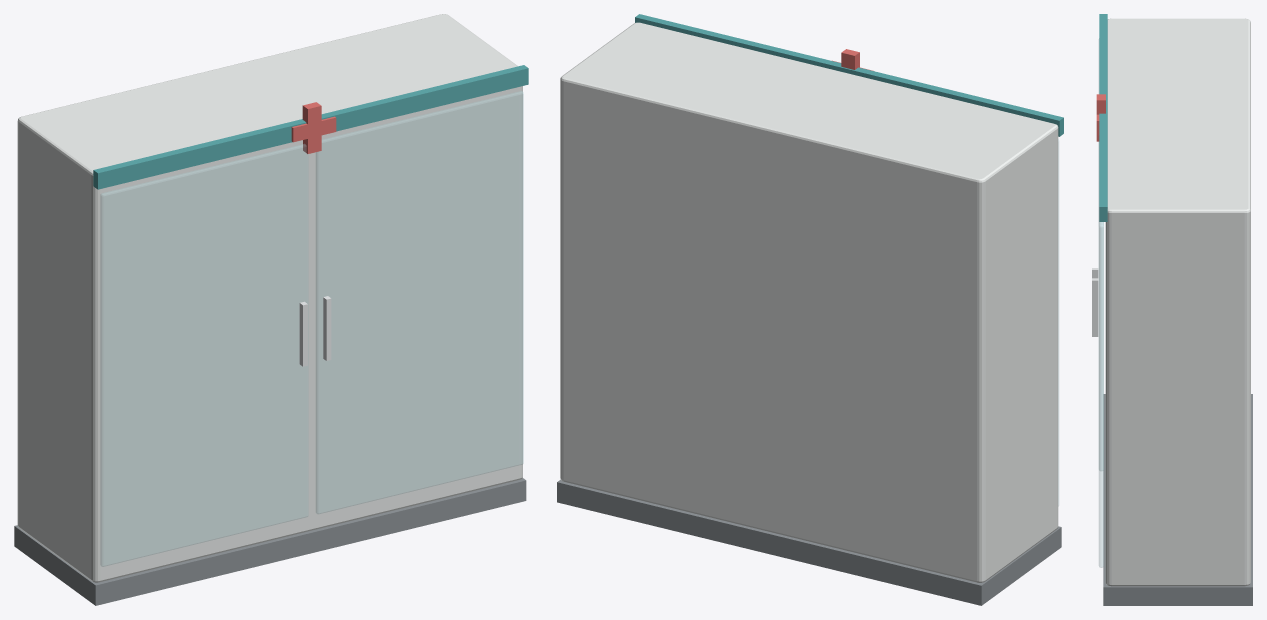
File: med_cabinet.glb
3 views of the same model, side by side, from view 1: azimuth 30°, elevation 25°; view 2: azimuth 150°, elevation 25°; view 3: azimuth 270°, elevation 25° (orthographic). The views are drawn at different scales.
Parts seen in each view (by area): view 1: med_cabinet; view 2: med_cabinet; view 3: med_cabinet.
Boxes of the visible parts, bbox=[...] form: med_cabinet: bbox=[14, 14, 528, 605]; med_cabinet: bbox=[557, 14, 1063, 605]; med_cabinet: bbox=[1092, 14, 1252, 605].
Size of the model in its own units: 2.2 by 2.19 by 0.775.
